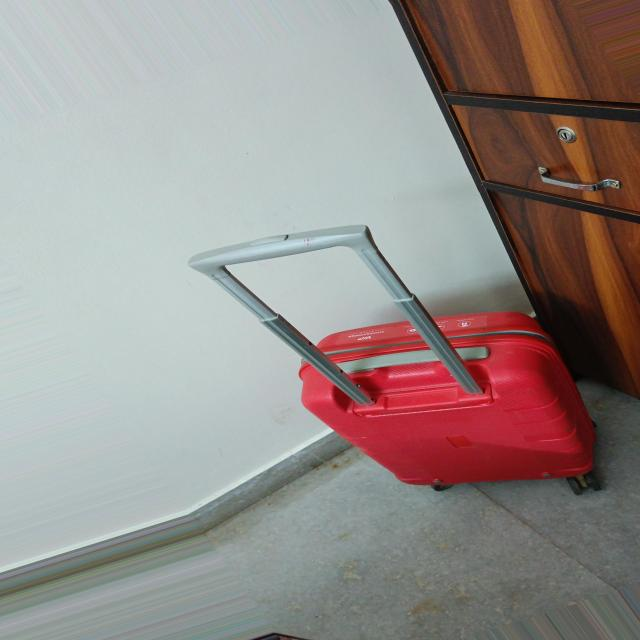Bag: (182, 178, 609, 498)
Handle: (184, 216, 478, 402)
